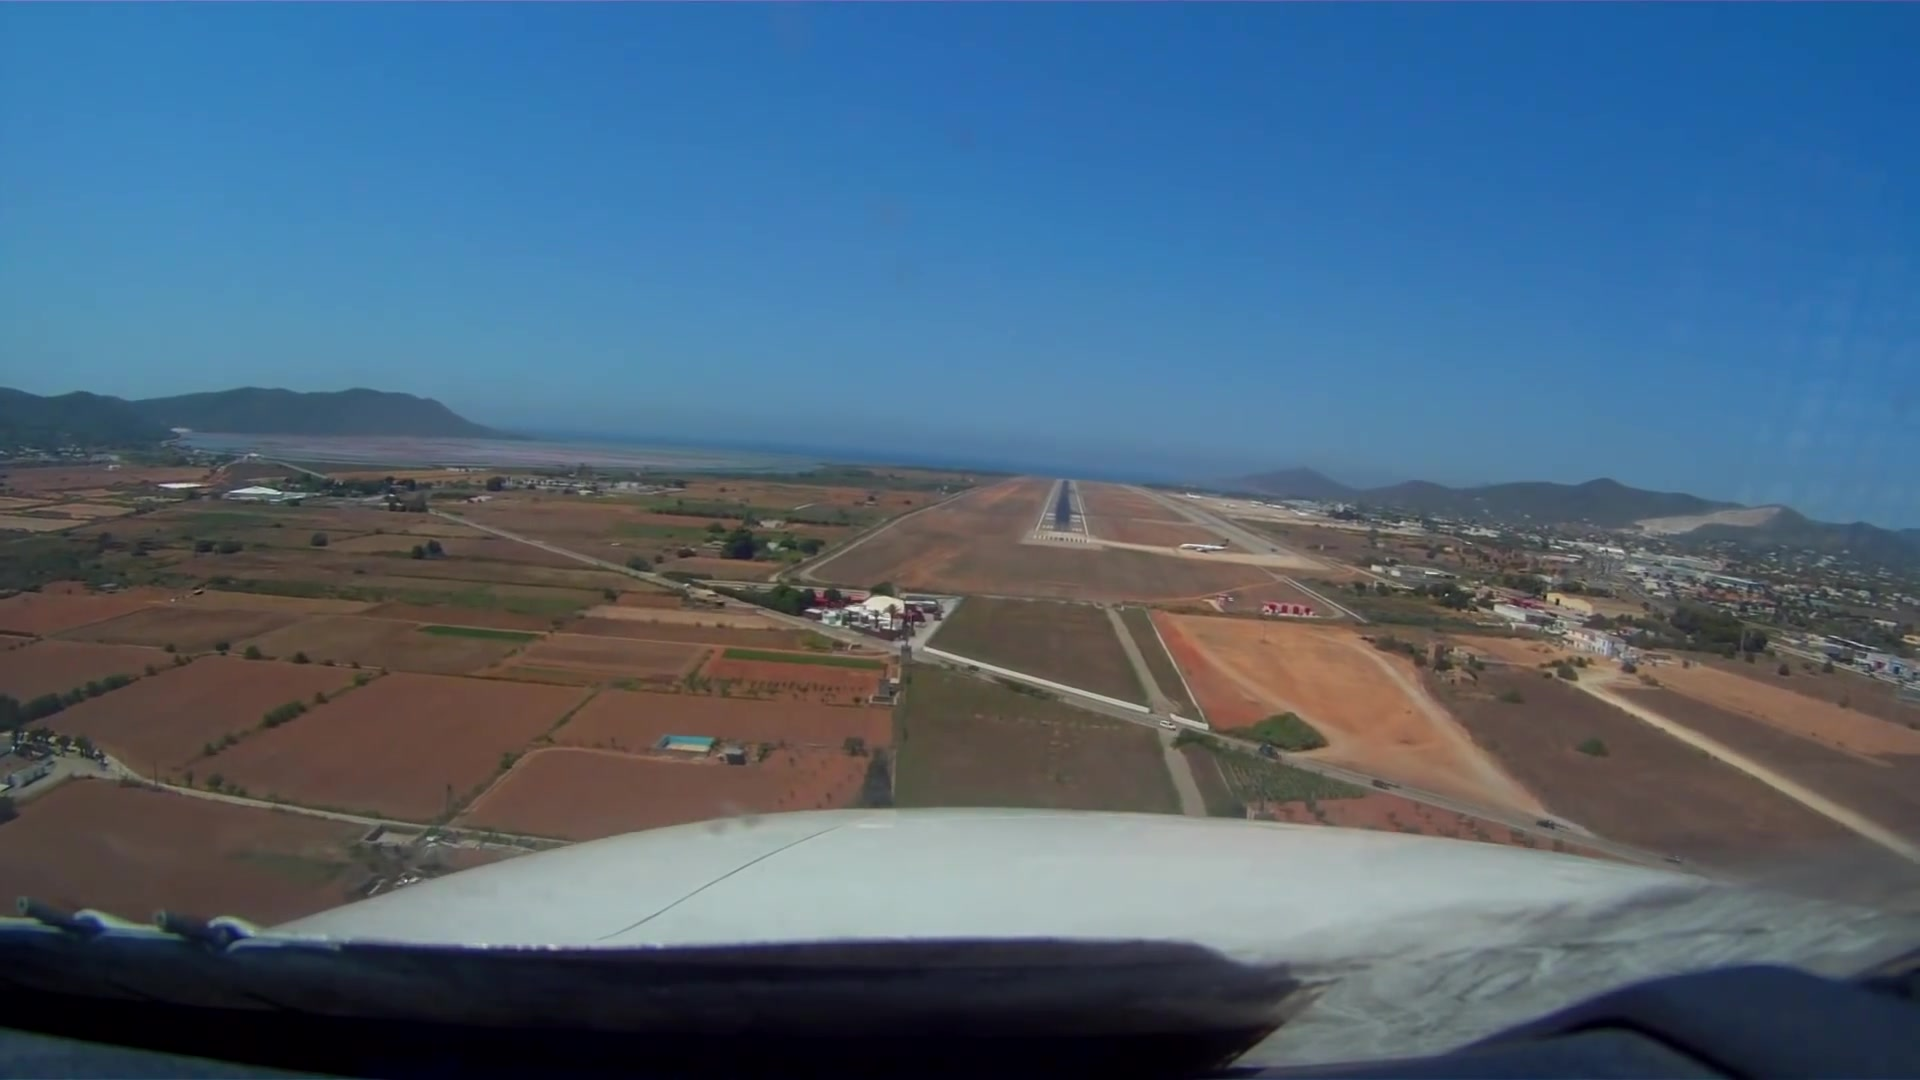entrance: (1030, 531, 1087, 545)
runway: (1027, 479, 1092, 549)
